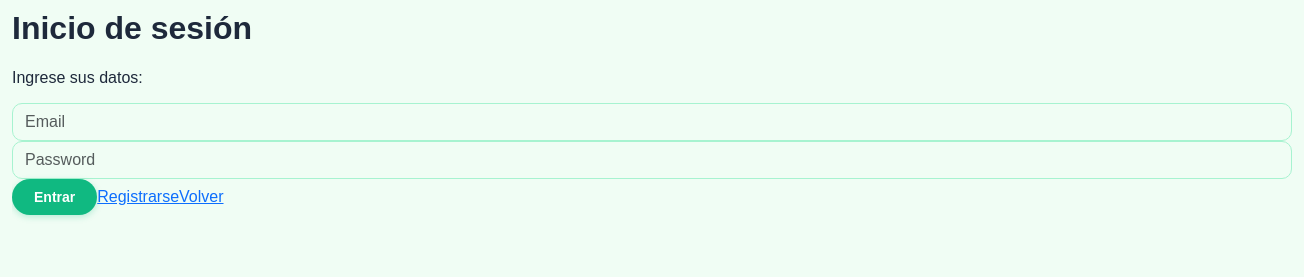
Test: FormularioLogin › con los campos vacíos muestra errores y no intenta ingresar
This screenshot has width=1304, height=277.
Click the button "Entrar": (55, 197) [12,179,97,215]
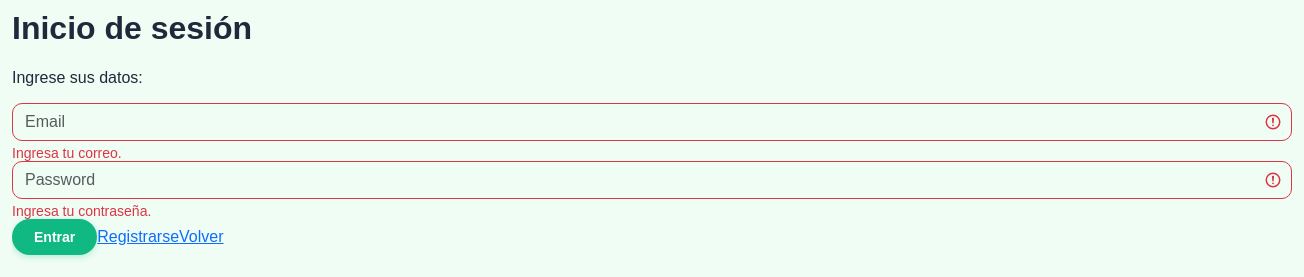
expect the text "Ingresa tu correo." is shown: met, box [12,145,122,161]
expect the text "Ingresa tu contraseña." is shown: met, box [12,203,151,219]
